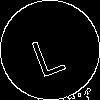L: (25, 25, 68, 78)
